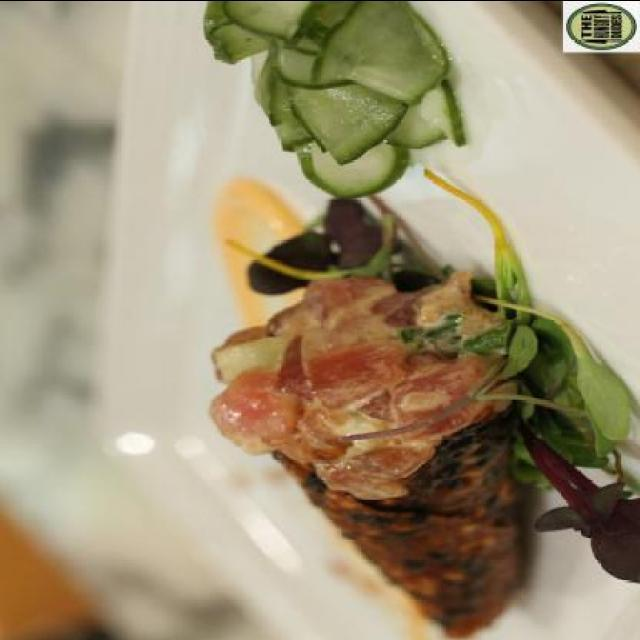Zucchini: (215, 3, 488, 185)
